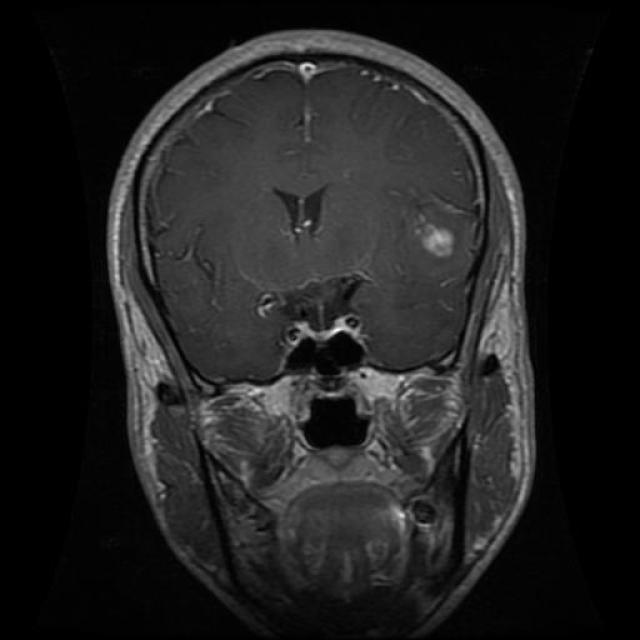glioma: (270, 172, 332, 236)
